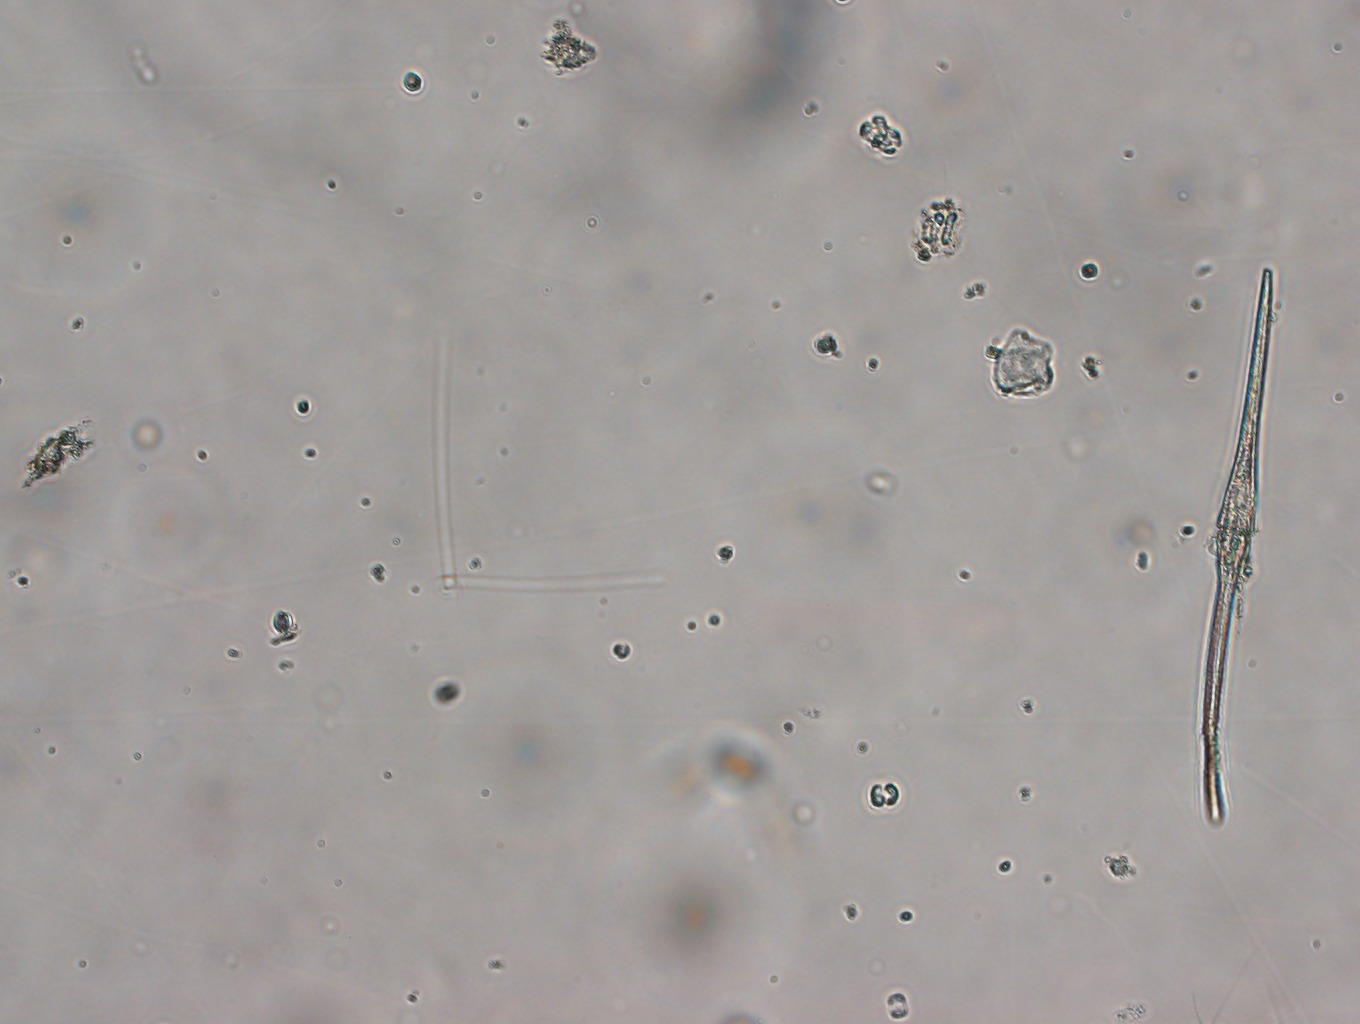ceratium fusus: (1185, 265, 1282, 828)
